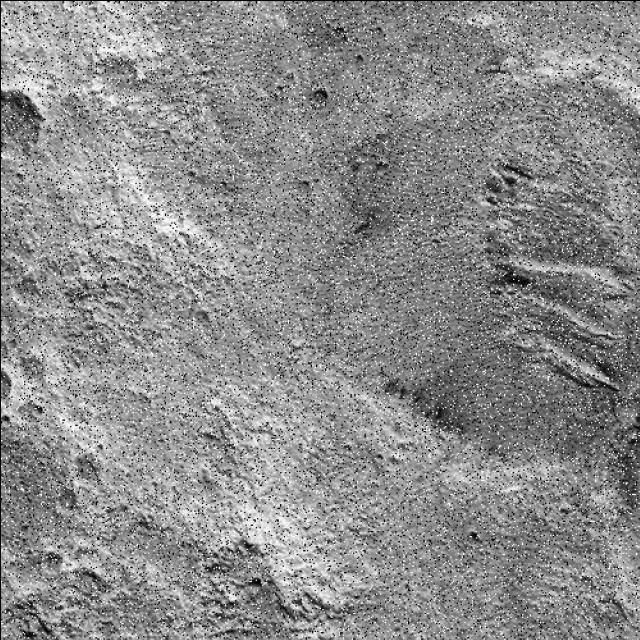crater: (316, 68, 640, 464), (499, 348, 640, 640), (0, 86, 46, 162)
